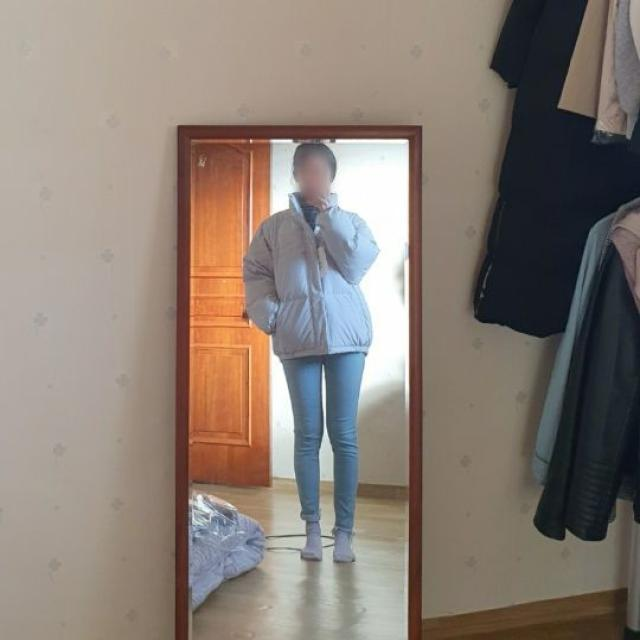denimpants: (284, 350, 366, 534)
padding: (242, 193, 380, 360)
